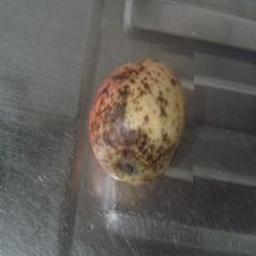Mango Rotten: (82, 43, 195, 210)
